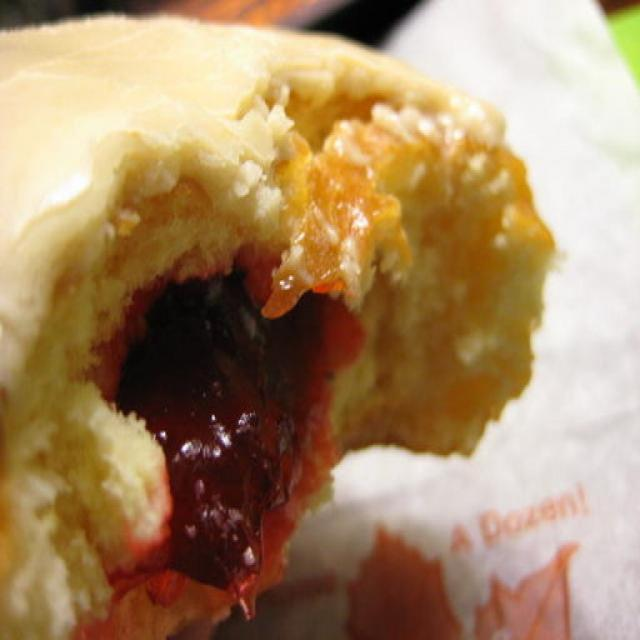Donuts: (2, 13, 558, 639)
